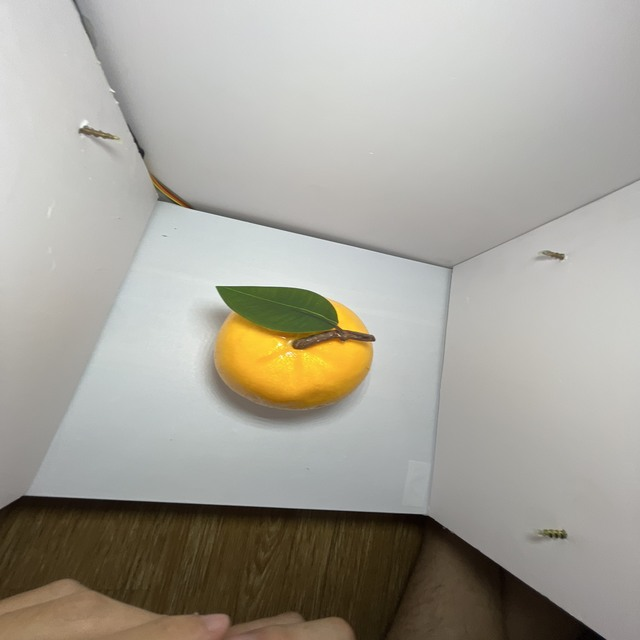Cam vang: (211, 284, 377, 417)
